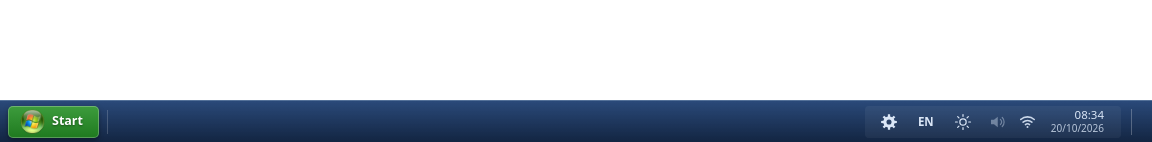
Test: Taskbar › offers a language picker in the notification area
Click the button with test id "taskbar-language": (926, 122) [911,110,941,134]
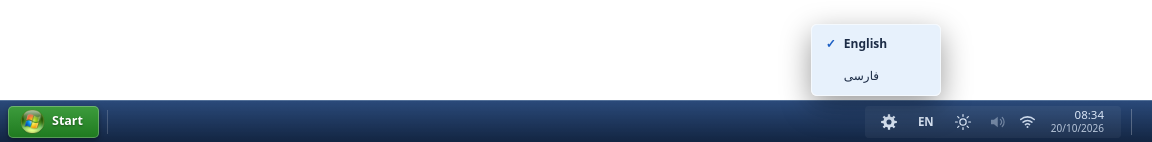
Click the option with test id "taskbar-language-fa": (876, 76) [816,60,936,90]
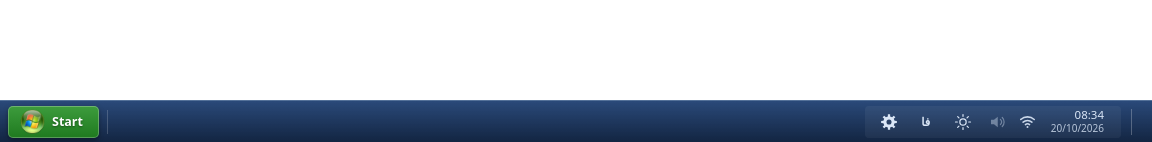
Result: the button with test id "taskbar-language" reads "فا" at [911,110,941,134]
